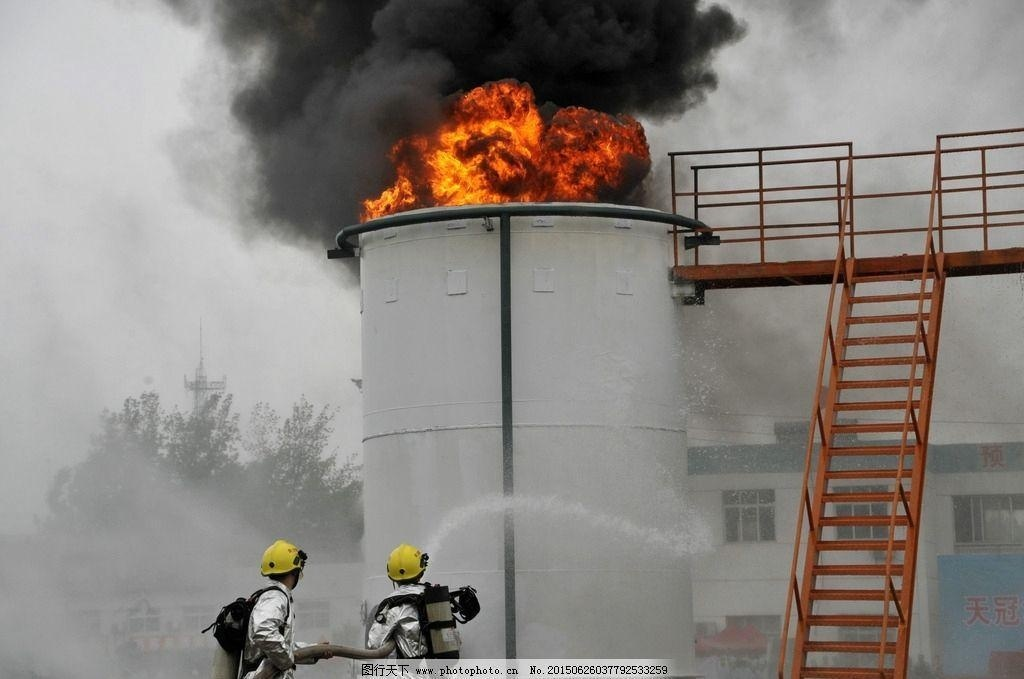fire: (356, 80, 646, 216)
